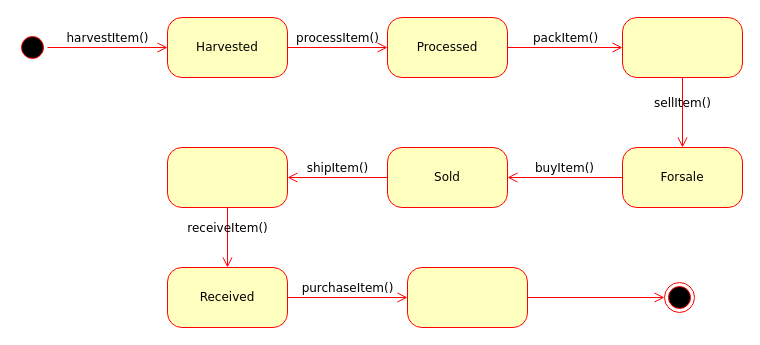
Some shapes in this 760 by 345 pixel diagram are drawn without their labels. The box of each missing label's shape, as (x1, y1, x2, y2) in pixels:
Packed: (622, 16, 742, 78)
Purchased: (406, 266, 528, 328)
Shipped: (166, 146, 288, 208)
